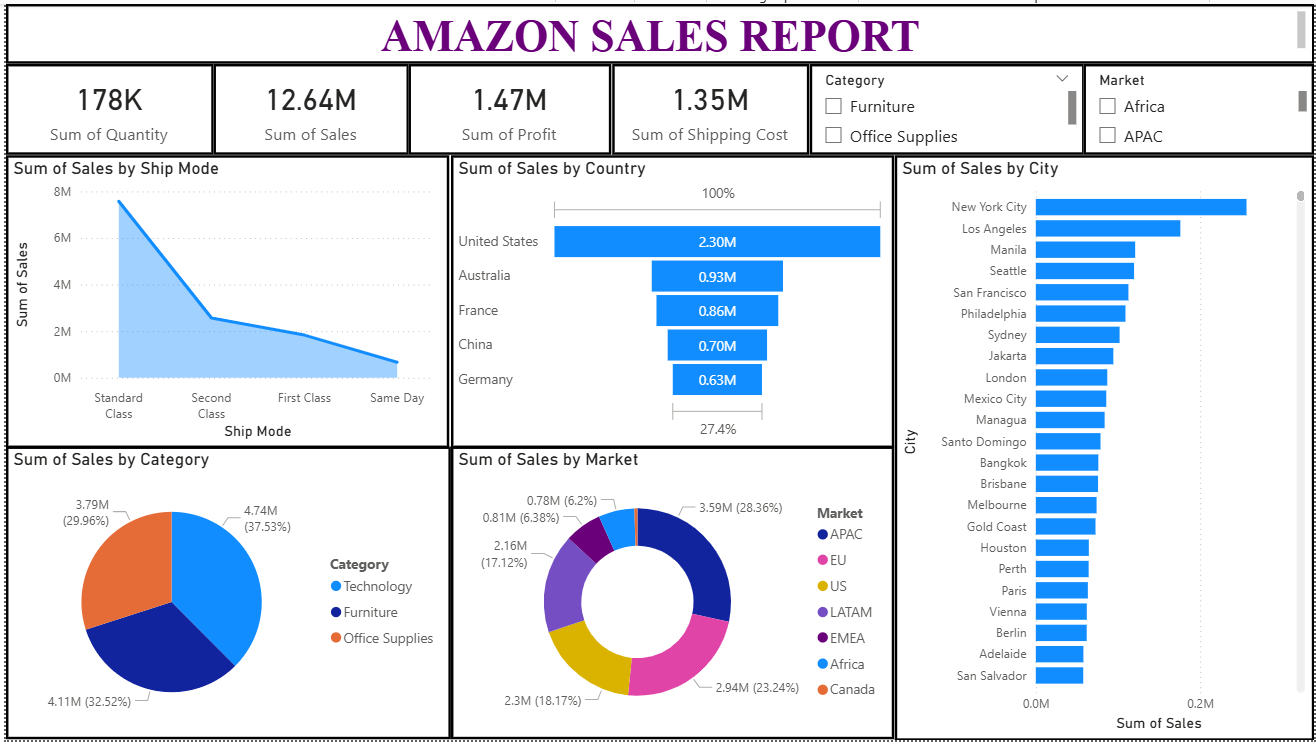

The dashboard page shown, as its layout file describes it:
{"tool":"powerbi","page":{"name":"Page 1","canvas":[1280,720],"ordinal":0},"visuals":[{"type":"pieChart","fields":{"Category":["Orders.Category"],"Y":["Sum(Orders.Sales)"]},"box":[0,433.3,435.6,286.7],"z":0},{"type":"donutChart","fields":{"Category":["Orders.Market"],"Y":["Sum(Orders.Sales)"]},"box":[435.6,433.3,433.3,286.7],"z":1000},{"type":"areaChart","fields":{"Category":["Orders.Ship Mode"],"Y":["Sum(Orders.Sales)"]},"box":[0,147.5,433.8,286.2],"z":2000},{"type":"clusteredBarChart","fields":{"Category":["Orders.City"],"Y":["Sum(Orders.Sales)"]},"box":[870,147.5,410,572.5],"z":3000},{"type":"funnel","fields":{"Category":["Orders.Country"],"Y":["Sum(Orders.Sales)"]},"box":[435,147.5,433.8,286.2],"z":4000},{"type":"textbox","box":[0,0,1280,58.6],"z":5000},{"type":"card","fields":{"Values":["Sum(Orders.Quantity)"]},"box":[0,58.6,202.9,88.6],"z":6000},{"type":"card","fields":{"Values":["Sum(Orders.Sales)"]},"box":[202.9,58.6,191.4,88.6],"z":7000},{"type":"card","fields":{"Values":["Sum(Orders.Profit)"]},"box":[394.3,58.6,198.6,88.6],"z":8000},{"type":"card","fields":{"Values":["Sum(Orders.Shipping Cost)"]},"box":[592.9,58.6,192.9,88.6],"z":9000},{"type":"slicer","fields":{"Values":["Orders.Category"]},"box":[785.7,58.6,268.6,88.6],"z":10000},{"type":"slicer","fields":{"Values":["Orders.Market"]},"box":[1054.3,58.6,225.7,88.6],"z":11000}]}

Visuals, with their boxes in screenshot pixels (x1, y1, x2, y2), scaled from the page's 1280x720 canvas onto the 1316x742 screenshot:
pieChart - Orders.Category x Sum(Orders.Sales): l=0, t=447, r=448, b=741
donutChart - Orders.Market x Sum(Orders.Sales): l=448, t=447, r=893, b=741
areaChart - Orders.Ship Mode x Sum(Orders.Sales): l=0, t=152, r=446, b=447
clusteredBarChart - Orders.City x Sum(Orders.Sales): l=894, t=152, r=1315, b=741
funnel - Orders.Country x Sum(Orders.Sales): l=447, t=152, r=893, b=447
textbox: l=0, t=0, r=1315, b=60
card - Sum(Orders.Quantity): l=0, t=60, r=209, b=152
card - Sum(Orders.Sales): l=209, t=60, r=405, b=152
card - Sum(Orders.Profit): l=405, t=60, r=610, b=152
card - Sum(Orders.Shipping Cost): l=610, t=60, r=808, b=152
slicer - Orders.Category: l=808, t=60, r=1084, b=152
slicer - Orders.Market: l=1084, t=60, r=1315, b=152
